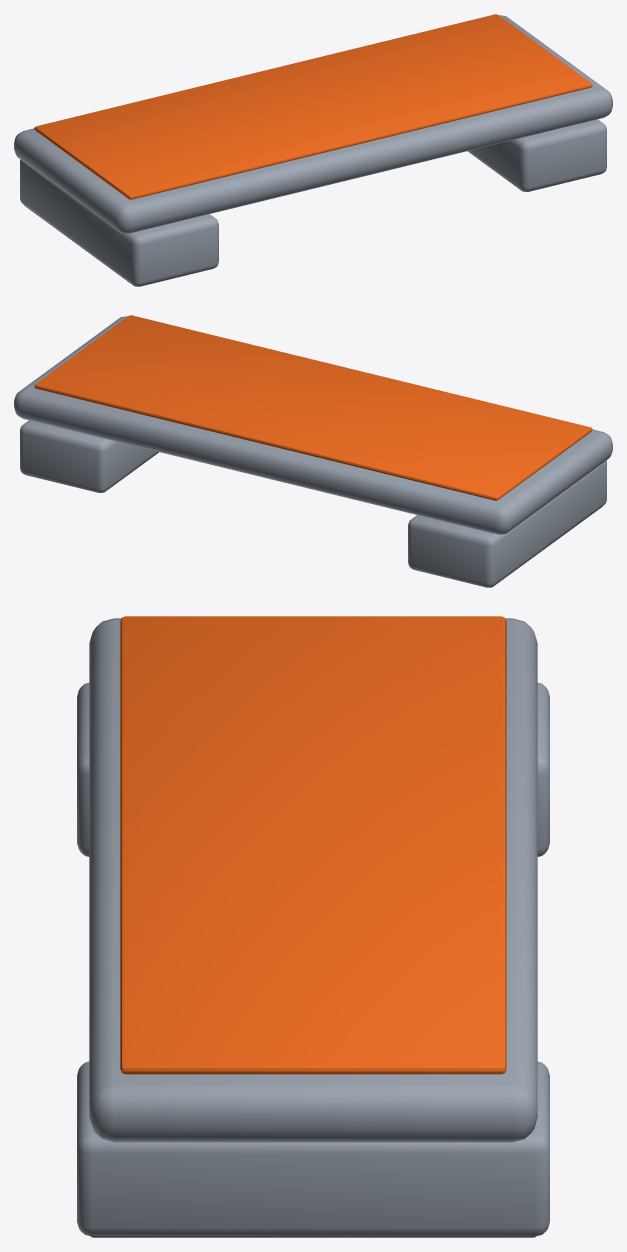
The model's file is aerobic-step.glb.
The picture shows the model from 3 angles, top to bottom: view 1: azimuth 30°, elevation 25°; view 2: azimuth 150°, elevation 25°; view 3: azimuth 270°, elevation 25°; orthographic projection. The views are drawn at different scales.
Visible parts, largest first — view 1: frame.tread, frame.frame; view 2: frame.tread, frame.frame; view 3: frame.tread, frame.frame, frame.rubber.
Boxes of the visible parts, x1=… form: frame.tread: x1=34, y1=14, x2=592, y2=199; frame.frame: x1=14, y1=15, x2=612, y2=286; frame.tread: x1=34, y1=315, x2=592, y2=500; frame.frame: x1=14, y1=316, x2=612, y2=587; frame.tread: x1=120, y1=616, x2=506, y2=1074; frame.frame: x1=77, y1=618, x2=549, y2=1236; frame.rubber: x1=91, y1=1236, x2=535, y2=1237.
Size of the model in its own units: 0.92 by 0.15 by 0.38.
